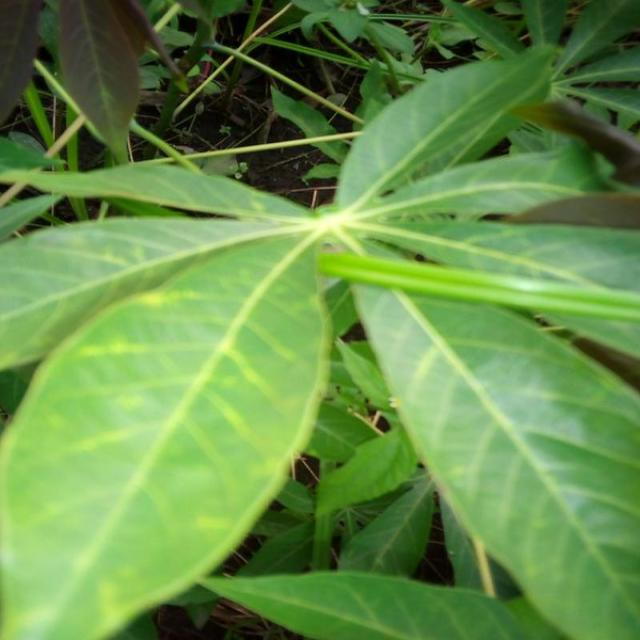cassava leaf: (0, 3, 638, 637), (0, 212, 332, 638), (348, 244, 638, 638)
